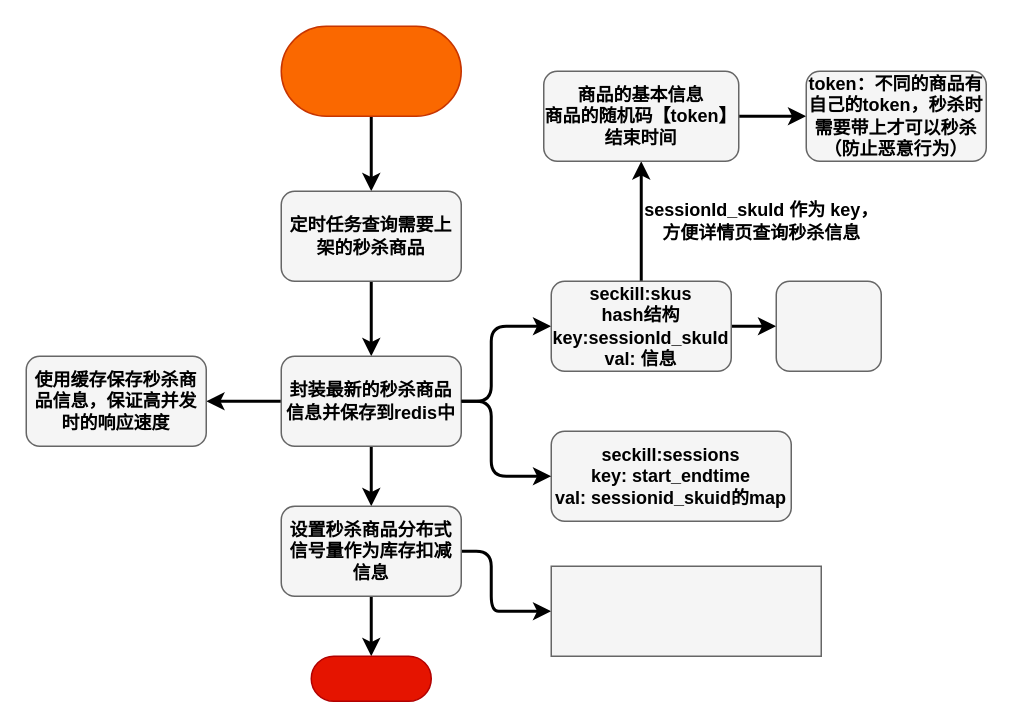
Image size: 1013x728. Some labels were removed from this diagram. The shapes that lost their labels are listed below. From the top down, each one's box as (x1, y1, x2, y2) in pixels, then its label:
(280, 25, 461, 116): 秒杀商品 定时上架
(775, 280, 881, 371): sessionId：活动场次id
(550, 565, 821, 656): 信号量 key：seckill:stock:商品随机码 val: 秒杀的商品的数量
(310, 655, 431, 701): 结束
